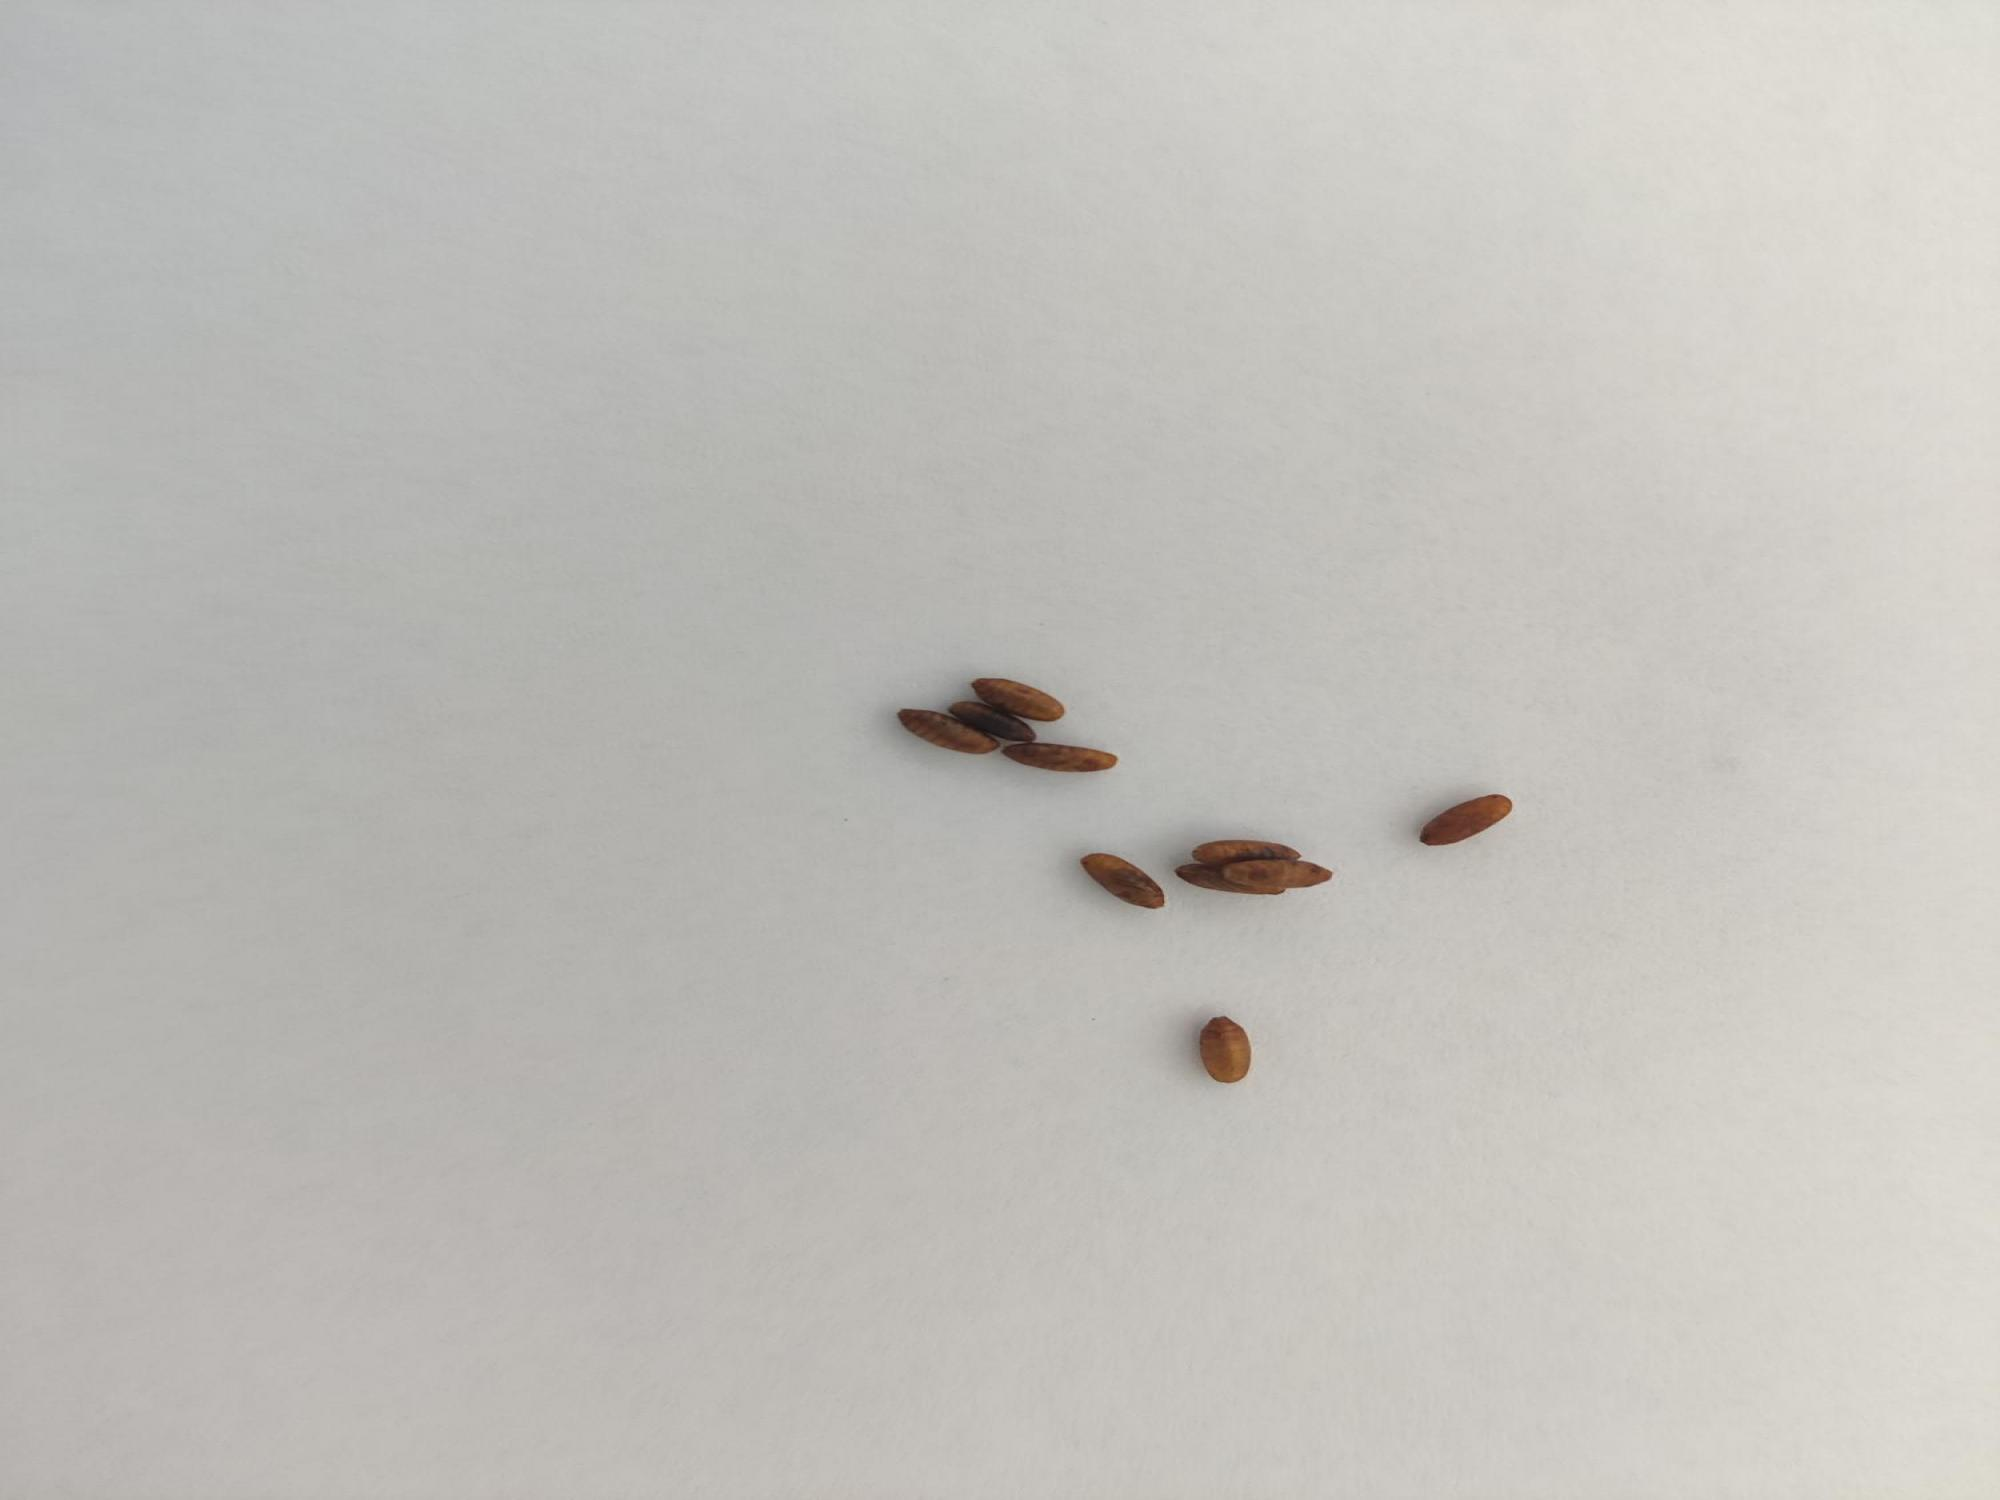pupae: (1402, 785, 1526, 851), (1183, 1010, 1276, 1095), (1074, 849, 1184, 919), (964, 673, 1074, 725), (891, 703, 994, 758), (994, 741, 1129, 778), (945, 696, 1043, 744), (1216, 854, 1332, 892), (1161, 862, 1280, 898), (1187, 834, 1309, 867)
